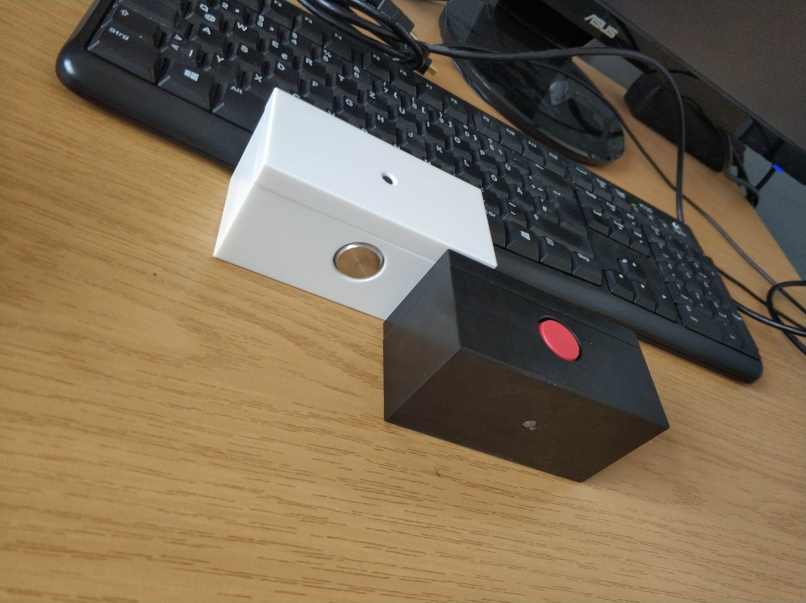black+black+red: (379, 245, 670, 487)
white+white+silver: (209, 86, 500, 325)
